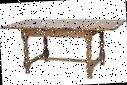Mesa: (0, 14, 126, 83)
